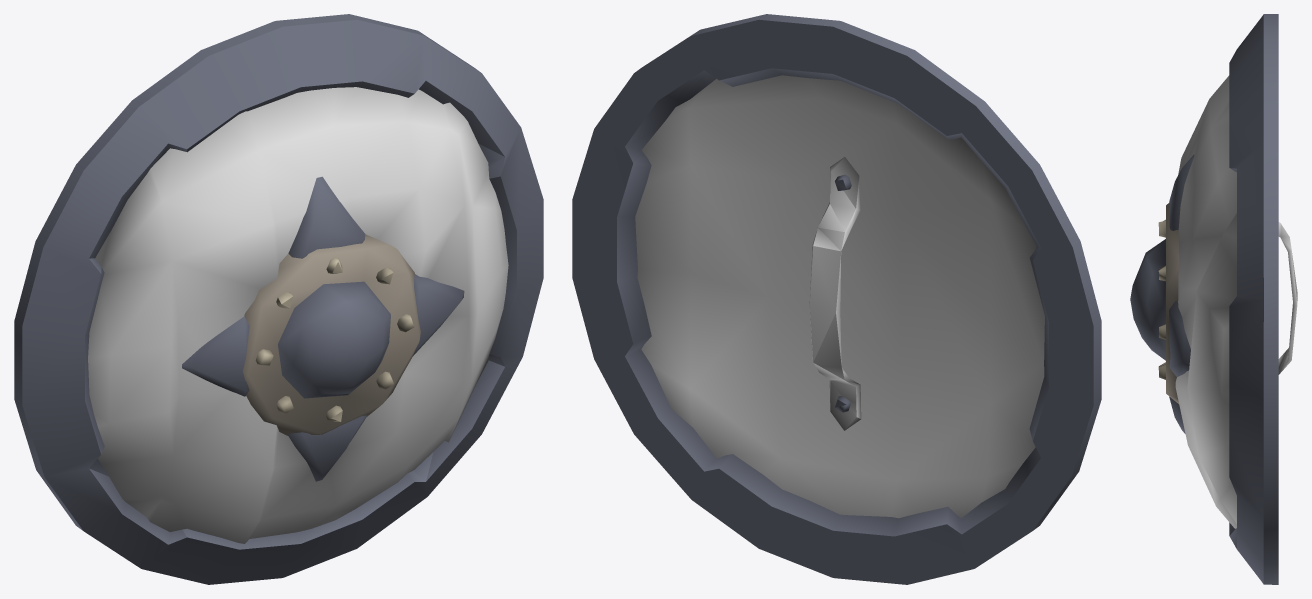
The model's file is pq_bouclier_bois.glb.
3 views of the same model, side by side, from view 1: azimuth 30°, elevation 25°; view 2: azimuth 150°, elevation 25°; view 3: azimuth 270°, elevation 25° (orthographic). The views are drawn at different scales.
Visible parts, largest first — view 1: Shield_Wooden; view 2: Shield_Wooden; view 3: Shield_Wooden.
Part boxes in pixels (x1=…): Shield_Wooden: x1=14, y1=14, x2=543, y2=584; Shield_Wooden: x1=572, y1=14, x2=1101, y2=584; Shield_Wooden: x1=1130, y1=14, x2=1297, y2=584.
Size of the model in its own units: 0.6146 by 0.6209 by 0.1802.
